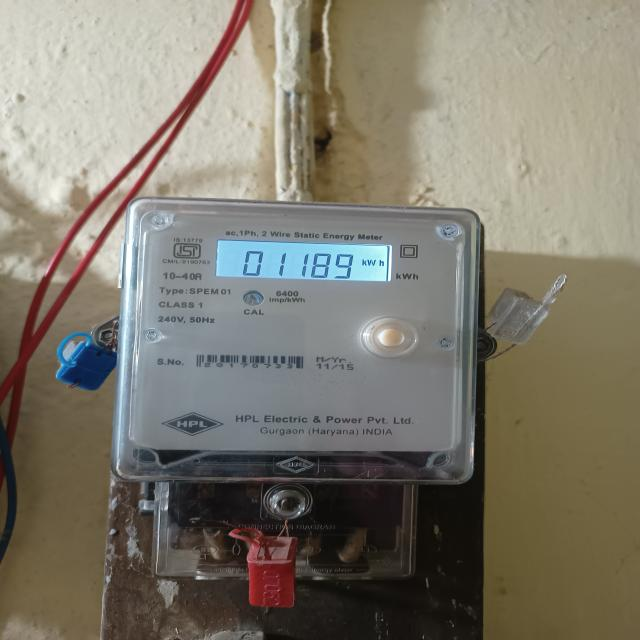display: (214, 239, 396, 284)
